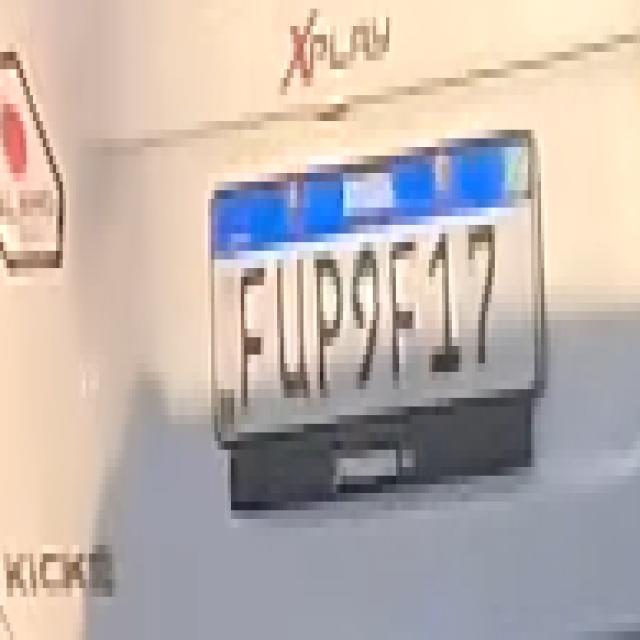Placa_mercosul_carro: (208, 131, 542, 452)
